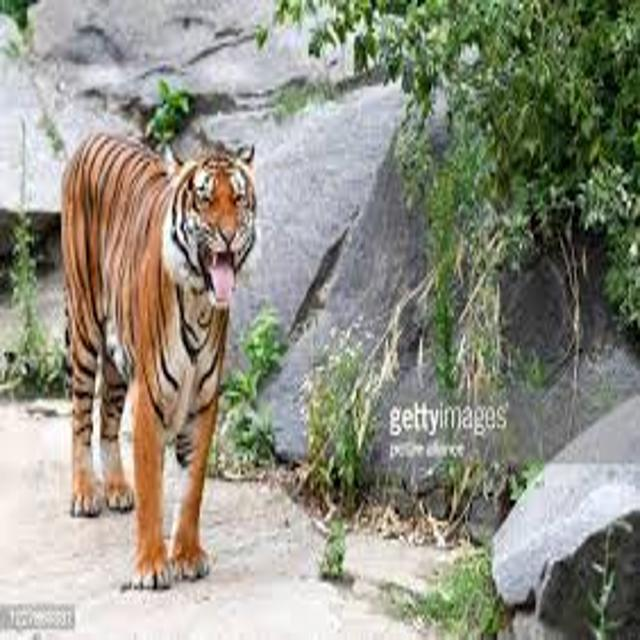tiger: (18, 97, 301, 606)
